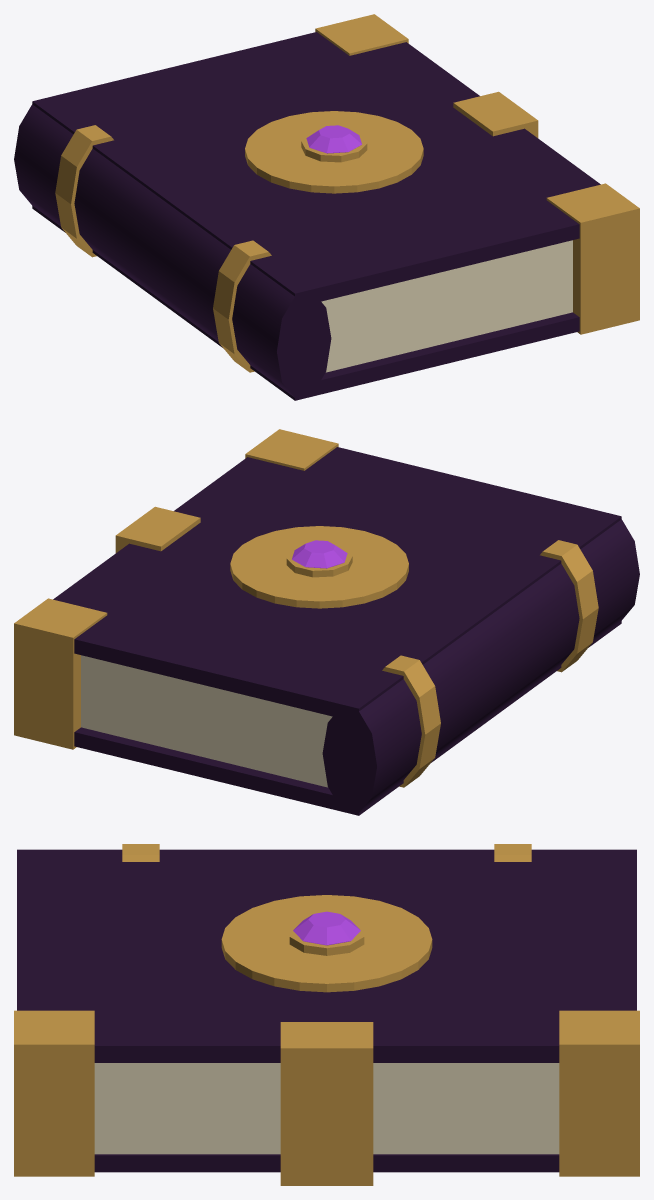
The model's file is tome_entropic.glb.
3 renders of one model, top to bottom at view 1: azimuth 30°, elevation 25°; view 2: azimuth 150°, elevation 25°; view 3: azimuth 270°, elevation 25°, orthographic. The views are drawn at different scales.
Visible parts, largest first — view 1: Tome_Entropic_Tome_entropic, Tome_Entropic_Brass, Tome_Entropic_Paper, Tome_Entropic_Gem_entropic; view 2: Tome_Entropic_Tome_entropic, Tome_Entropic_Brass, Tome_Entropic_Paper, Tome_Entropic_Gem_entropic; view 3: Tome_Entropic_Tome_entropic, Tome_Entropic_Brass, Tome_Entropic_Paper, Tome_Entropic_Gem_entropic.
Boxes of the visible parts, bbox=[...] form: Tome_Entropic_Tome_entropic: bbox=[14, 32, 600, 400]; Tome_Entropic_Brass: bbox=[55, 14, 639, 372]; Tome_Entropic_Paper: bbox=[321, 240, 572, 372]; Tome_Entropic_Gem_entropic: bbox=[306, 125, 361, 153]; Tome_Entropic_Tome_entropic: bbox=[53, 447, 639, 815]; Tome_Entropic_Brass: bbox=[14, 429, 598, 787]; Tome_Entropic_Paper: bbox=[81, 655, 332, 787]; Tome_Entropic_Gem_entropic: bbox=[292, 540, 347, 568]; Tome_Entropic_Tome_entropic: bbox=[17, 849, 636, 1172]; Tome_Entropic_Brass: bbox=[14, 844, 639, 1185]; Tome_Entropic_Paper: bbox=[94, 1063, 559, 1154]; Tome_Entropic_Gem_entropic: bbox=[293, 911, 360, 945].
Size of the model in its own units: 0.1655 by 0.0571 by 0.202.
